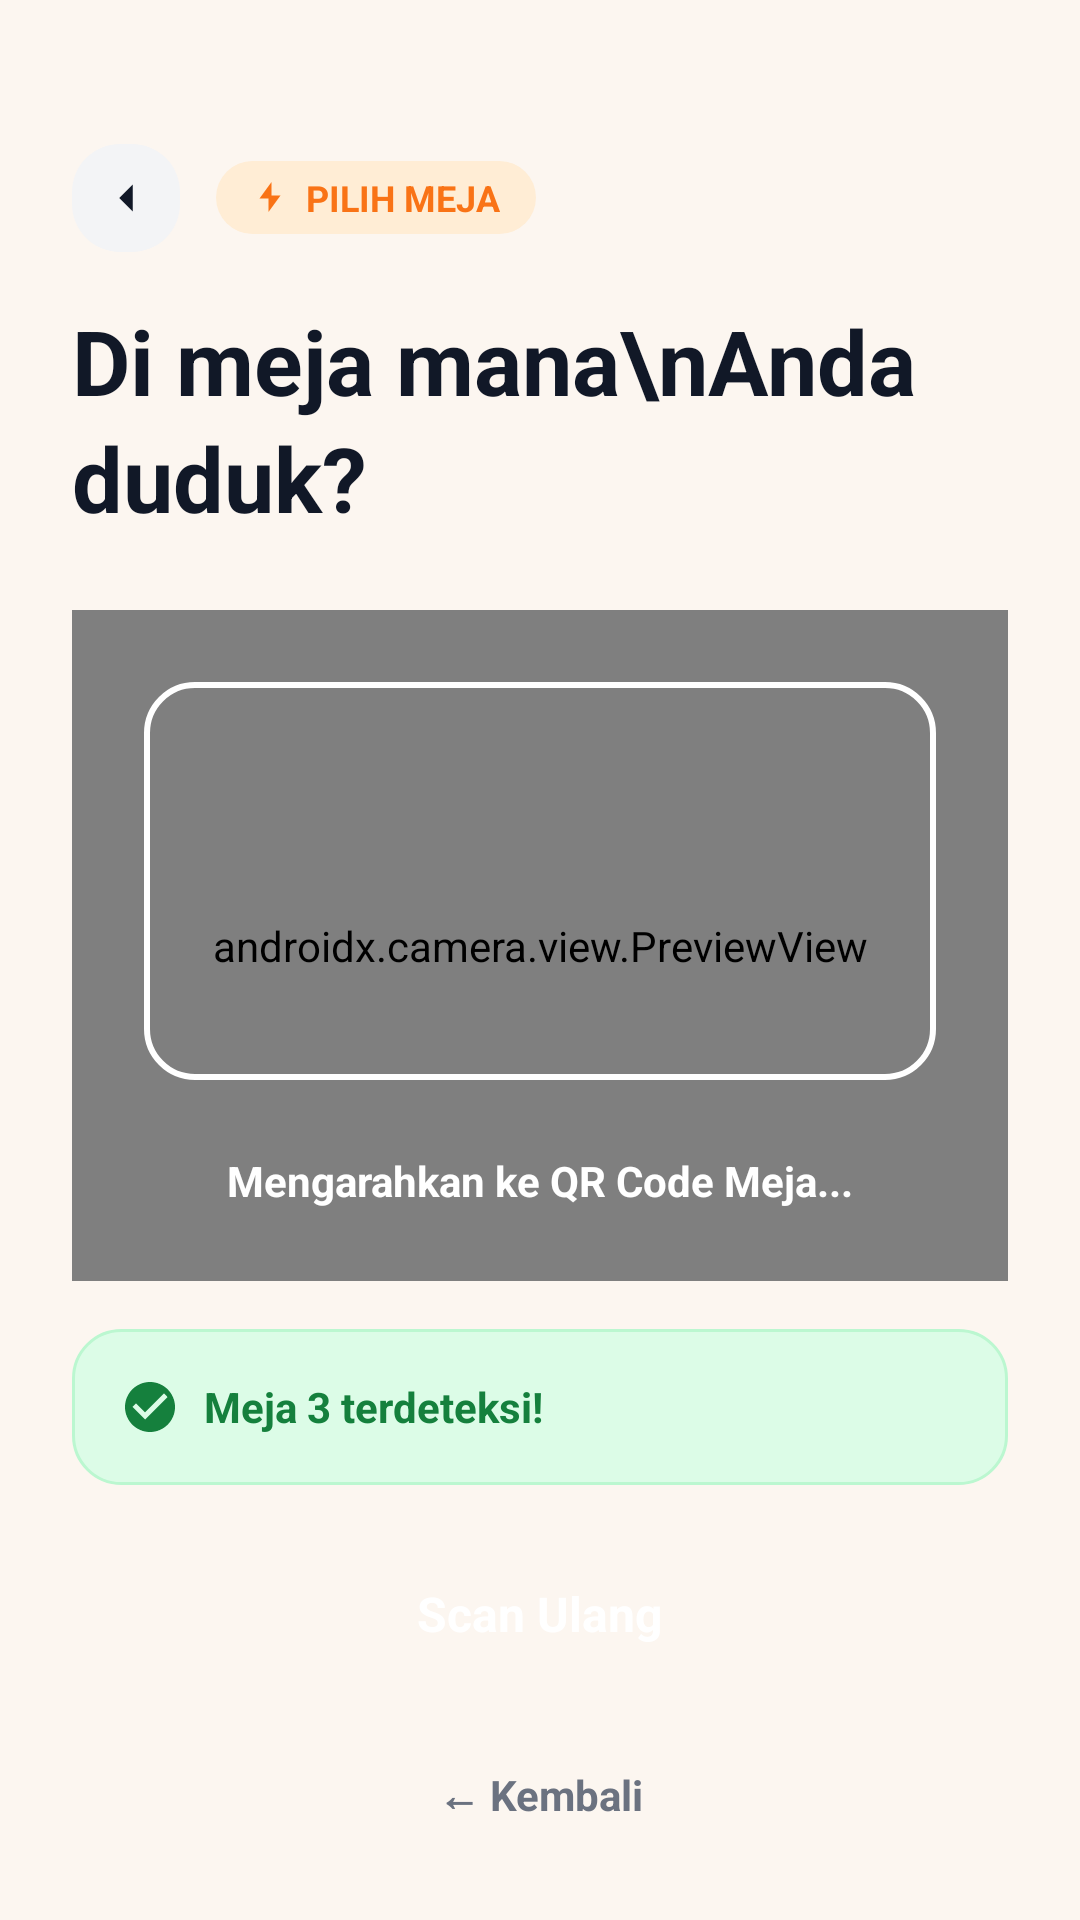

Where icons sit on this 1080w x 1920h app screen, as {"left": x1, "top": y1, "right": x2, "bottom": y2}:
arrow left: {"left": 119, "top": 184, "right": 133, "bottom": 212}
check circle: {"left": 125, "top": 1382, "right": 175, "bottom": 1432}
zap: {"left": 259, "top": 182, "right": 281, "bottom": 212}
